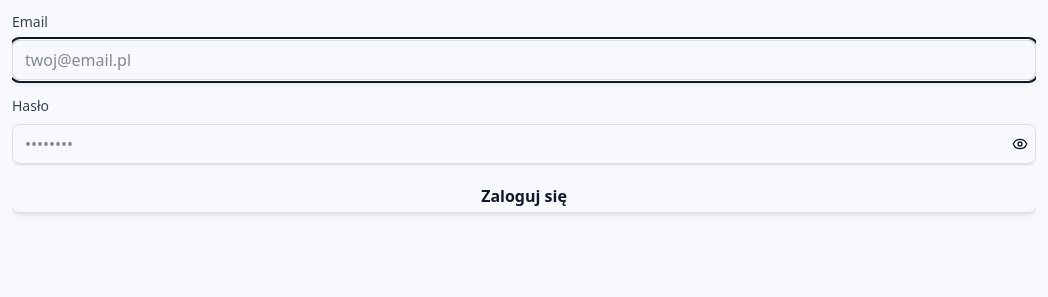
Scenario: LoginForm › Client-side Validation › should show error when email is empty
Click the button "Zaloguj się" at (524, 196), box [12, 180, 1036, 212]
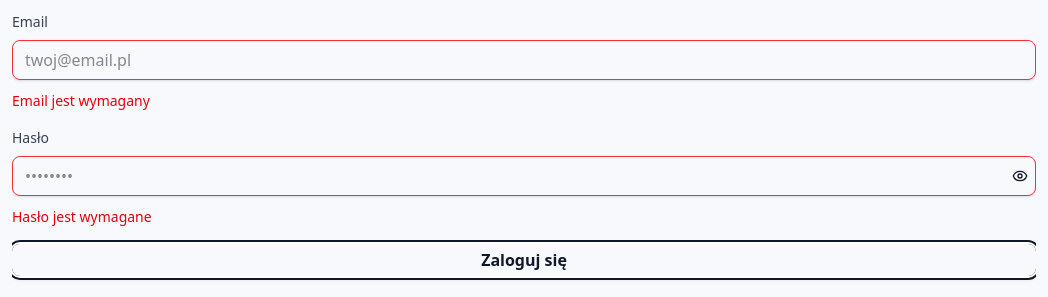
expect the text "Email jest wymagany" is shown: met, box [12, 91, 150, 110]
